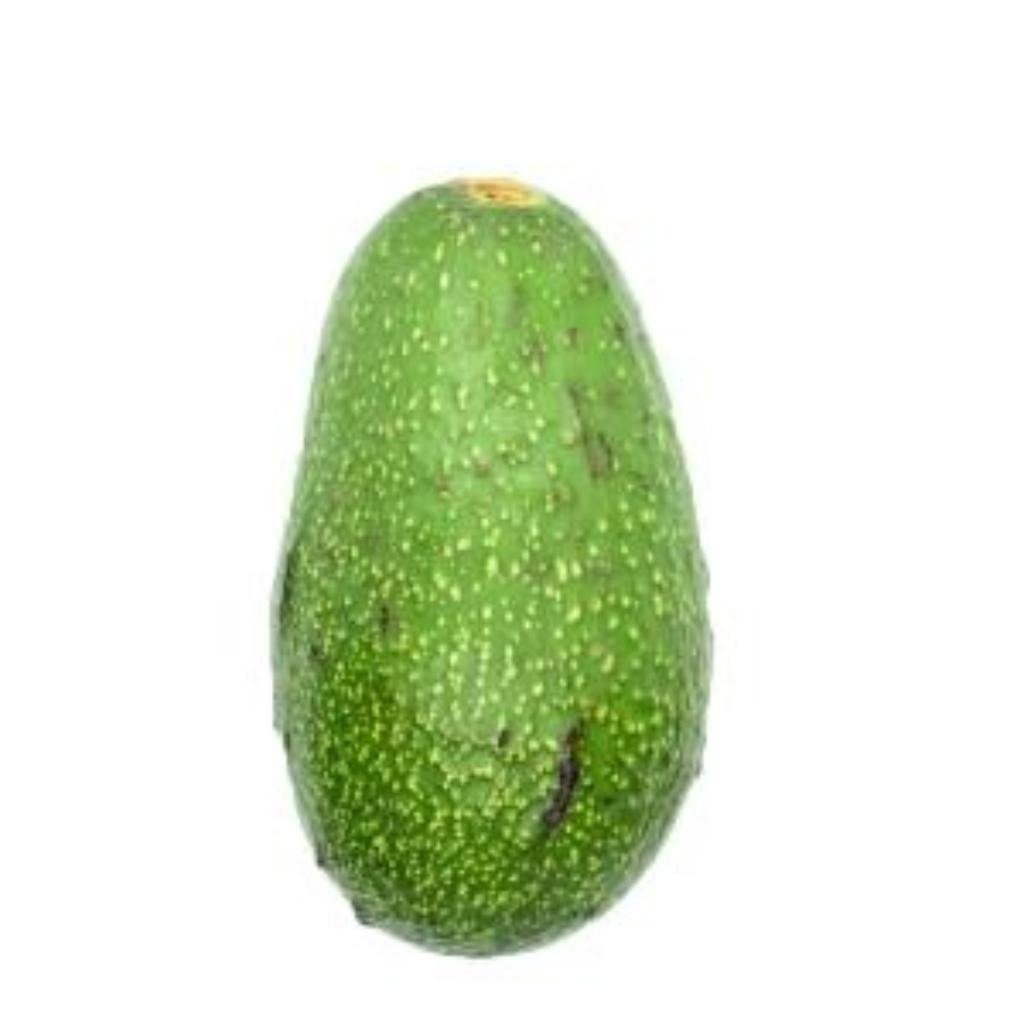cercospora: (246, 152, 748, 954)
